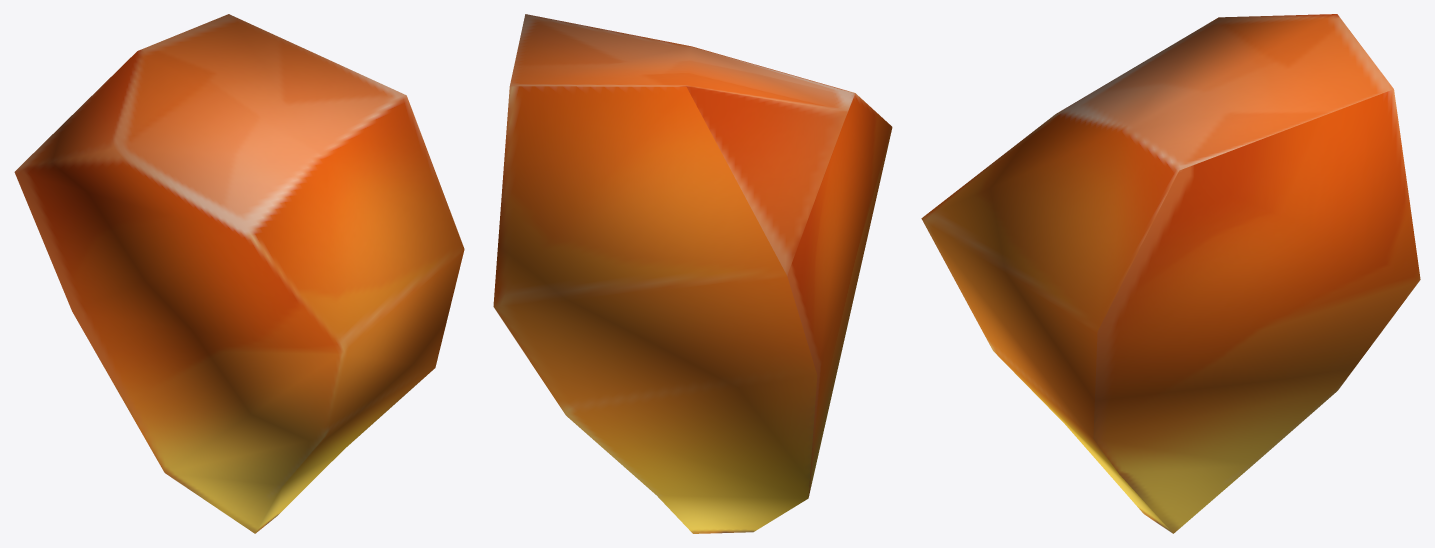
The model's file is huyoubaoshi_02.FBX.
3 renders of one model, left to right at view 1: azimuth 30°, elevation 25°; view 2: azimuth 150°, elevation 25°; view 3: azimuth 270°, elevation 25°, orthographic. The views are drawn at different scales.
Visible parts, largest first — view 1: huyoubaoshi_02; view 2: huyoubaoshi_02; view 3: huyoubaoshi_02.
Part boxes in pixels (<box>): huyoubaoshi_02: <box>14,14,464,533</box>; huyoubaoshi_02: <box>493,14,892,533</box>; huyoubaoshi_02: <box>921,14,1420,533</box>.
Bounding box in the file's own units: 254 × 322 × 302.
